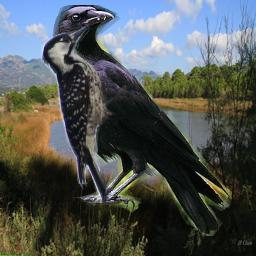Crow: (52, 5, 232, 236)
Woodpecker: (40, 24, 135, 203)
